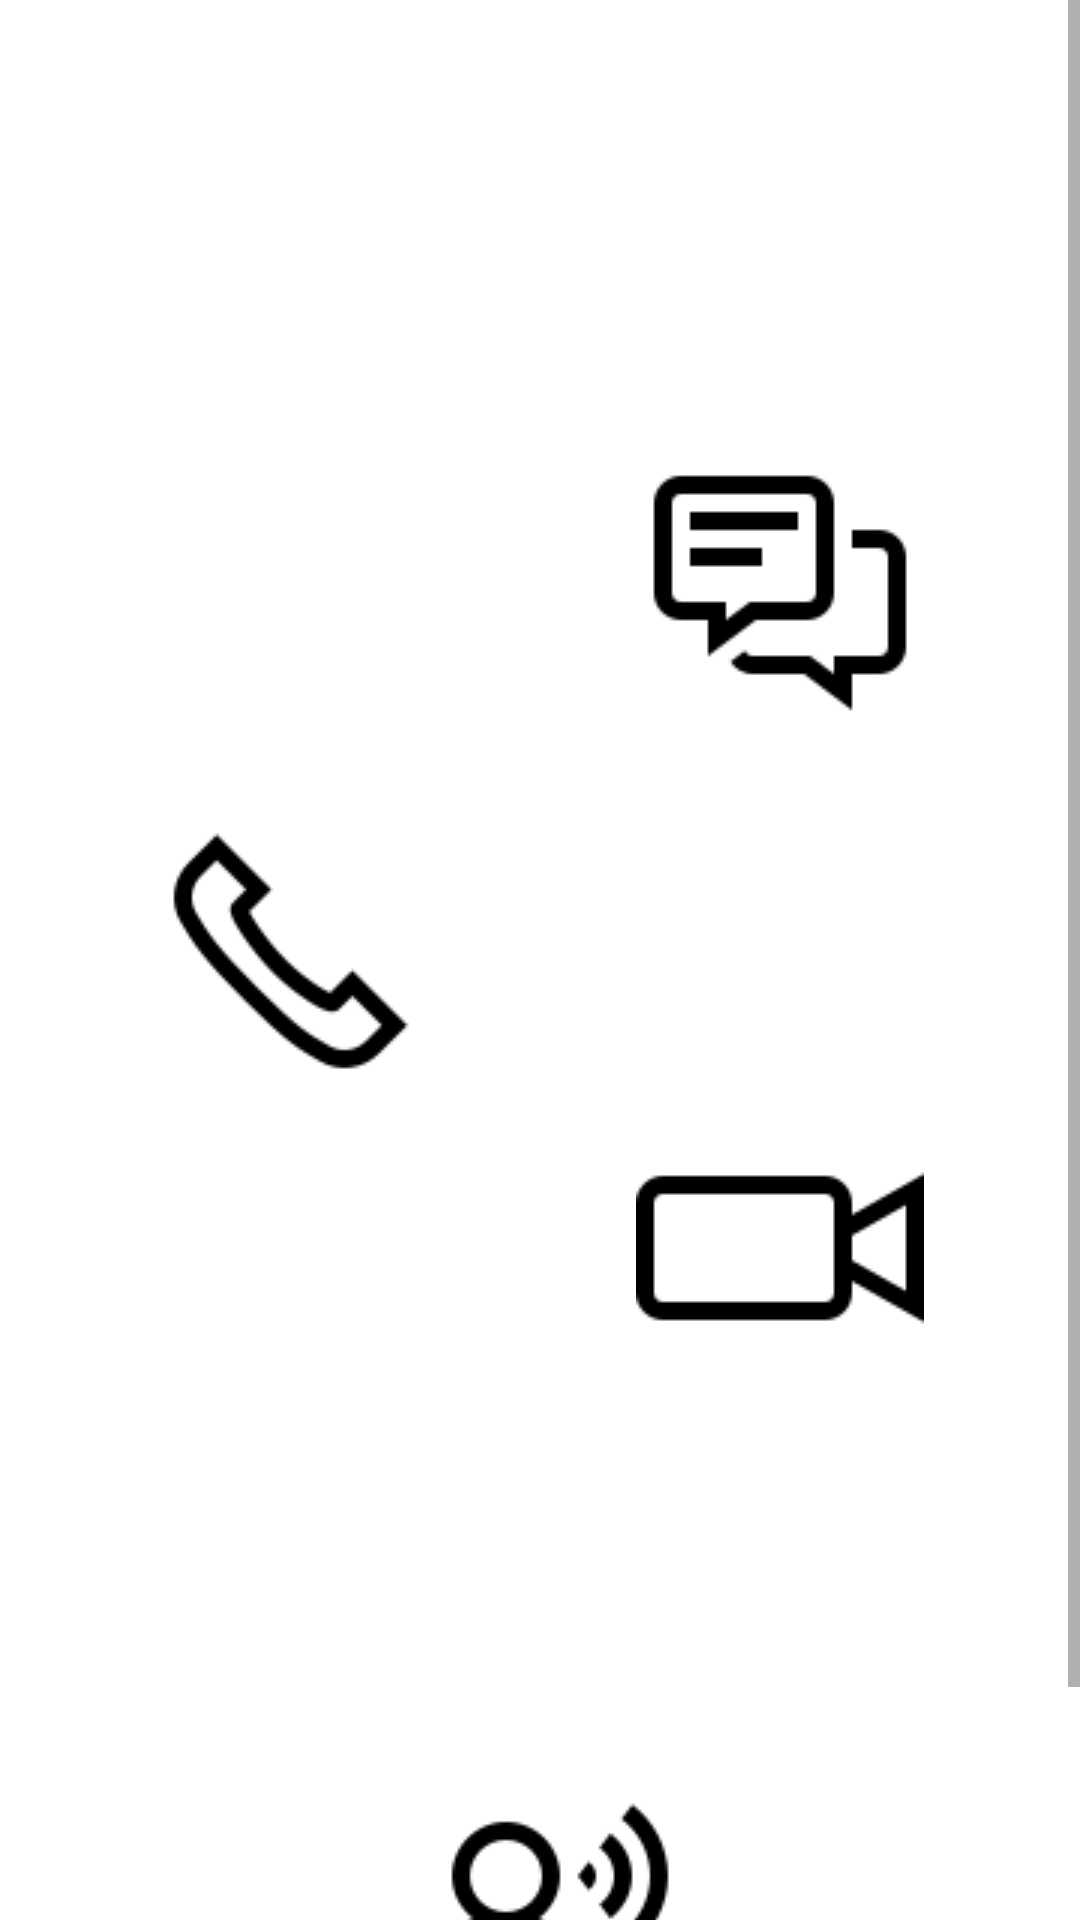

Where icons sit on this 1080px x 1920px app screen, as (x1, y1, x2, y2):
messages: (653, 475, 907, 711)
